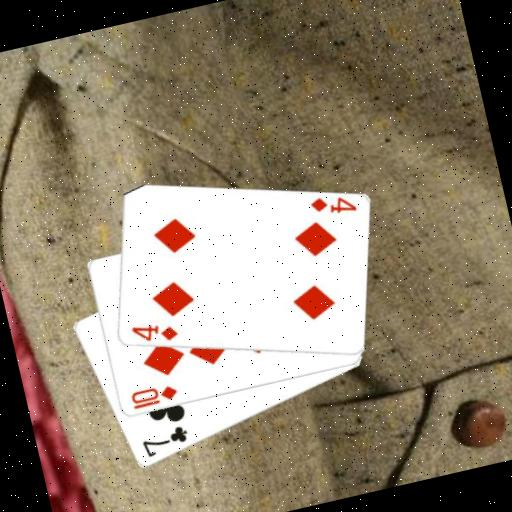10D: (126, 381, 180, 413)
4D: (127, 314, 181, 351), (305, 186, 359, 223)
7C: (137, 422, 193, 461)
